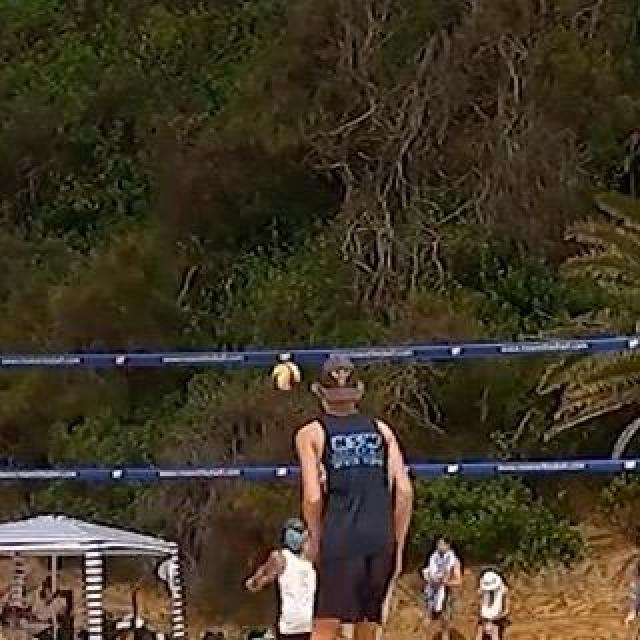volleyball: (272, 364, 300, 390)
